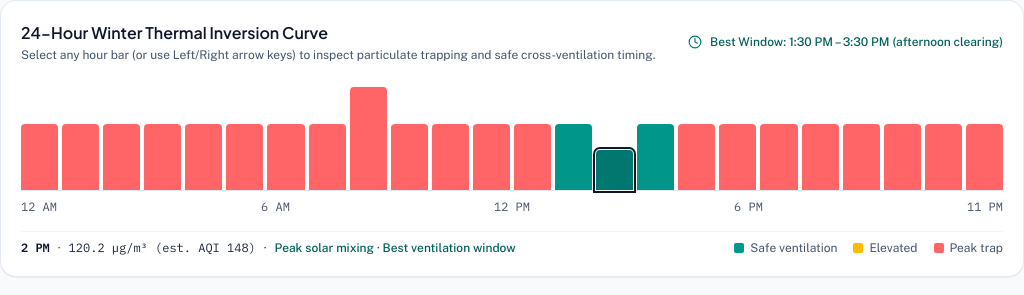
Test case: Chart components unit tests (mocked Recharts & airImpact) › DiurnalSmogChart › renders 24 hourly bars, defaults to 2 PM selection, and updates readout on click
Expected: the text "Best Window: 1:30 PM – 3:30 PM (afternoon clearing)" is shown, [710, 34, 1003, 50]
Expected: the text "Peak solar mixing · Best ventilation window" is shown, [275, 240, 516, 256]
Click the button named "8 AM: 310.5 micrograms per cubic meter".
click(368, 138)  # box [350, 87, 387, 190]
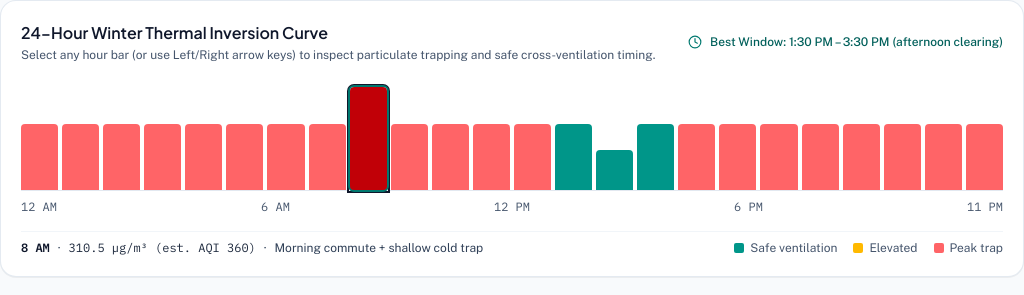
Now the text "Morning commute + shallow cold trap" is shown, box [275, 240, 483, 256]
